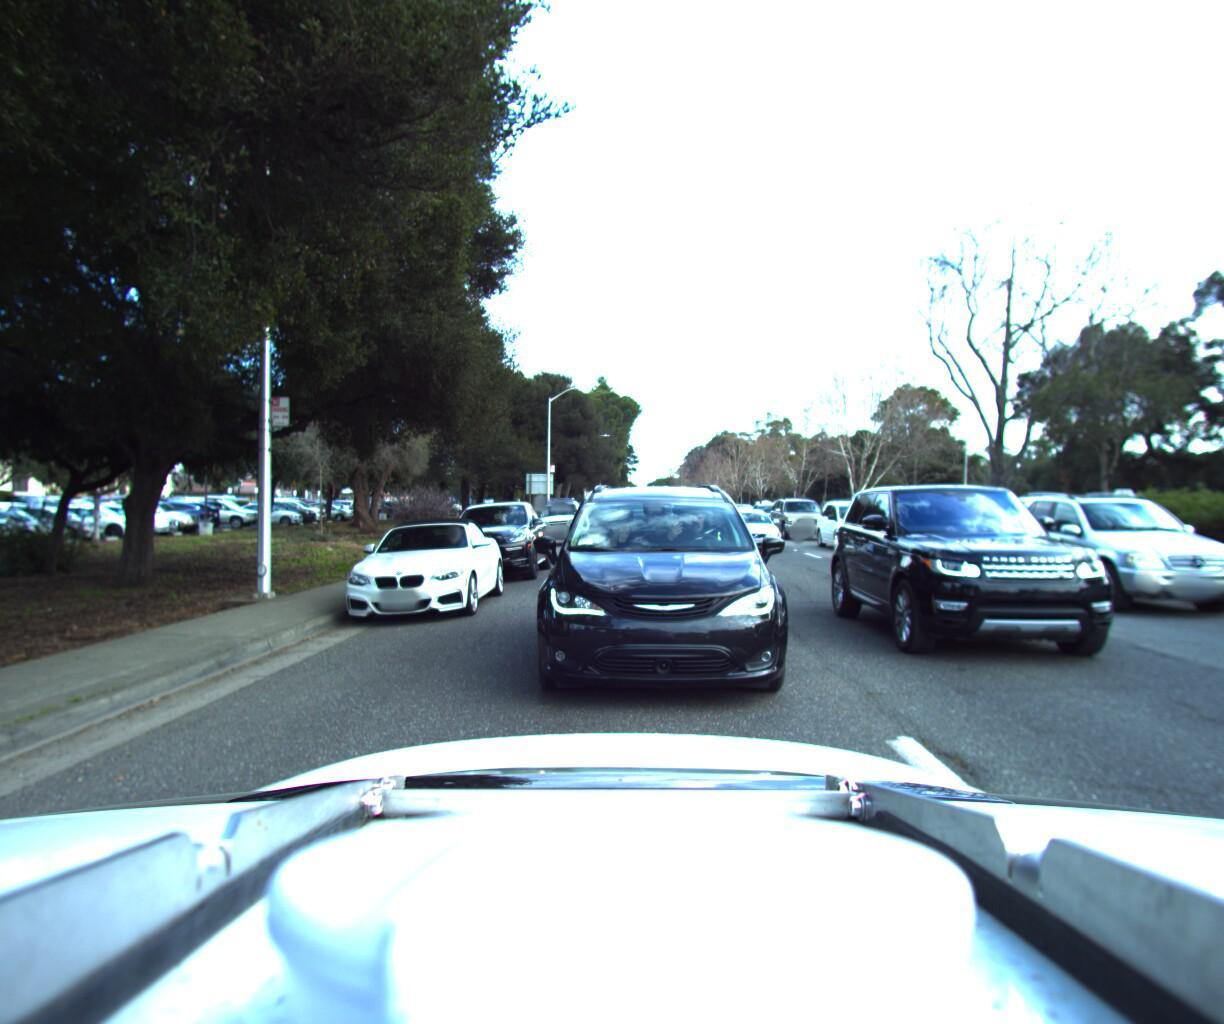car: (827, 470, 1172, 692), (524, 465, 802, 720), (982, 487, 1224, 615), (325, 510, 507, 624), (434, 494, 550, 584), (809, 494, 898, 550), (722, 503, 792, 550), (530, 492, 587, 544), (767, 491, 830, 538)
other_vehicle: (1055, 481, 1186, 555)
